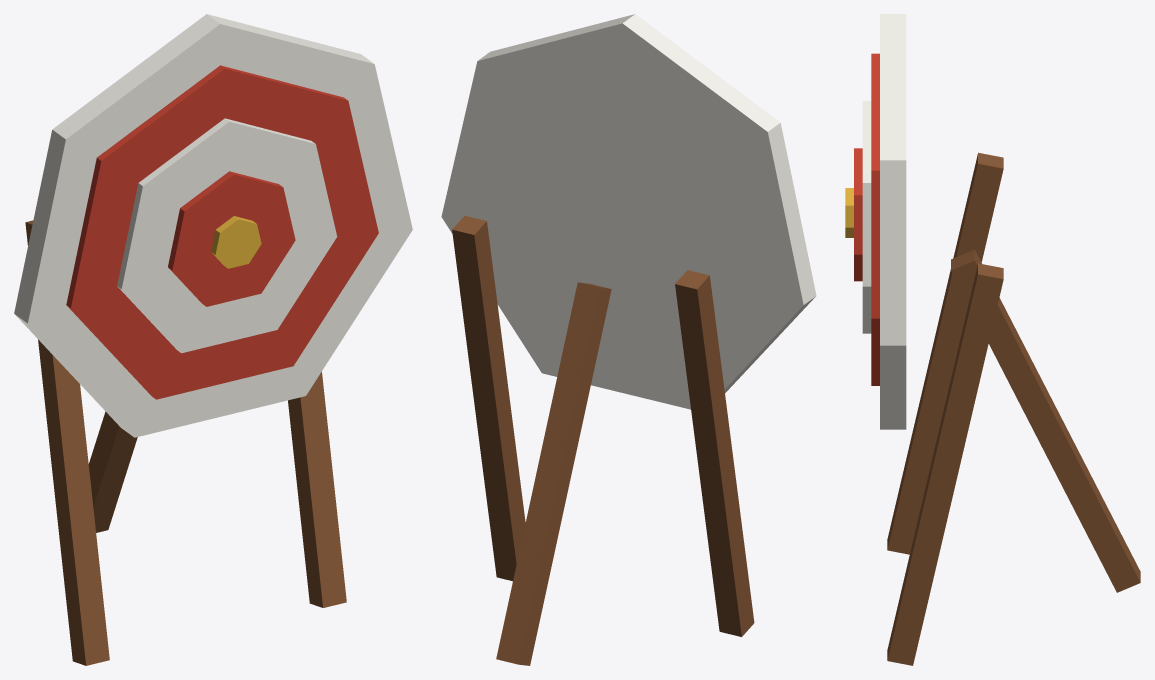
File: target-lod1.glb
3 views of the same model, side by side, from view 1: azimuth 30°, elevation 25°; view 2: azimuth 150°, elevation 25°; view 3: azimuth 270°, elevation 25° (orthographic). The views are drawn at different scales.
Visible parts, largest first — view 1: target; view 2: target; view 3: target.
Part boxes in pixels (x1,y1,x2,y2): target: [14, 14, 412, 665]; target: [441, 14, 816, 665]; target: [845, 14, 1140, 665].
Bounding box in the file's own units: 0.9749 × 1.5 × 0.6774.
